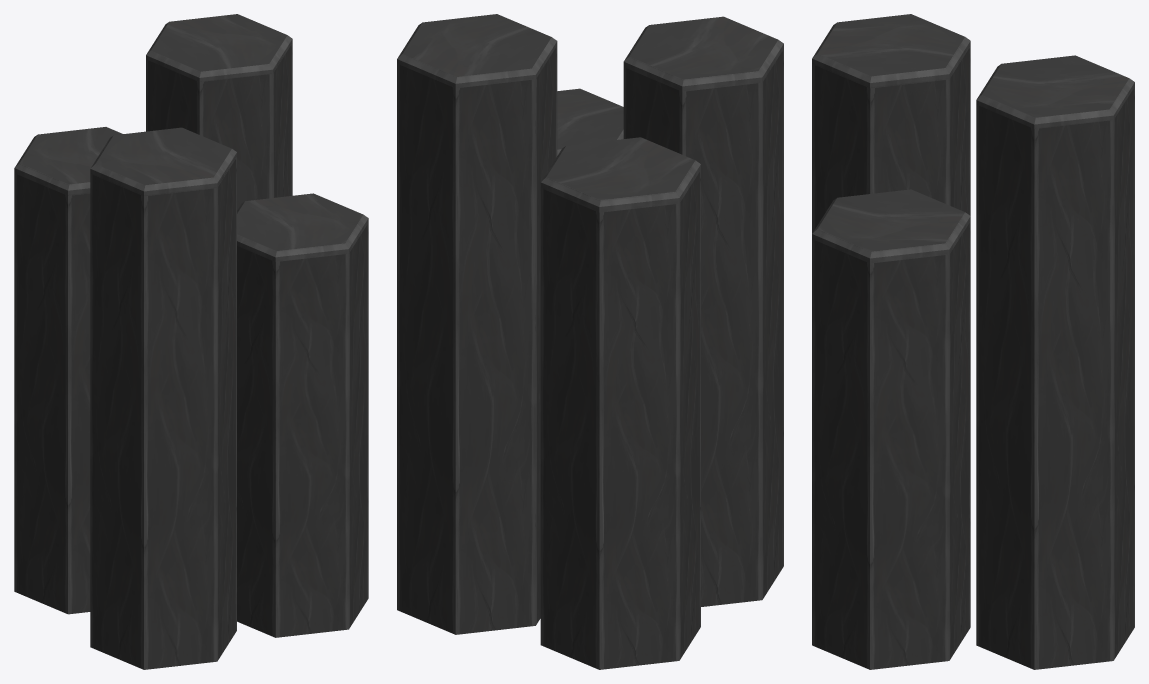
The model's file is SM_Causeway1.fbx.
3 views of the same model, side by side, from view 1: azimuth 30°, elevation 25°; view 2: azimuth 150°, elevation 25°; view 3: azimuth 270°, elevation 25° (orthographic). The views are drawn at different scales.
Visible parts, largest first — view 1: Causeway1; view 2: Causeway1; view 3: Causeway1.
Boxes of the visible parts, bbox=[...] form: Causeway1: bbox=[14, 14, 368, 669]; Causeway1: bbox=[397, 14, 783, 669]; Causeway1: bbox=[812, 14, 1134, 669].
Bounding box in the file's own units: 393 × 739 × 393.
